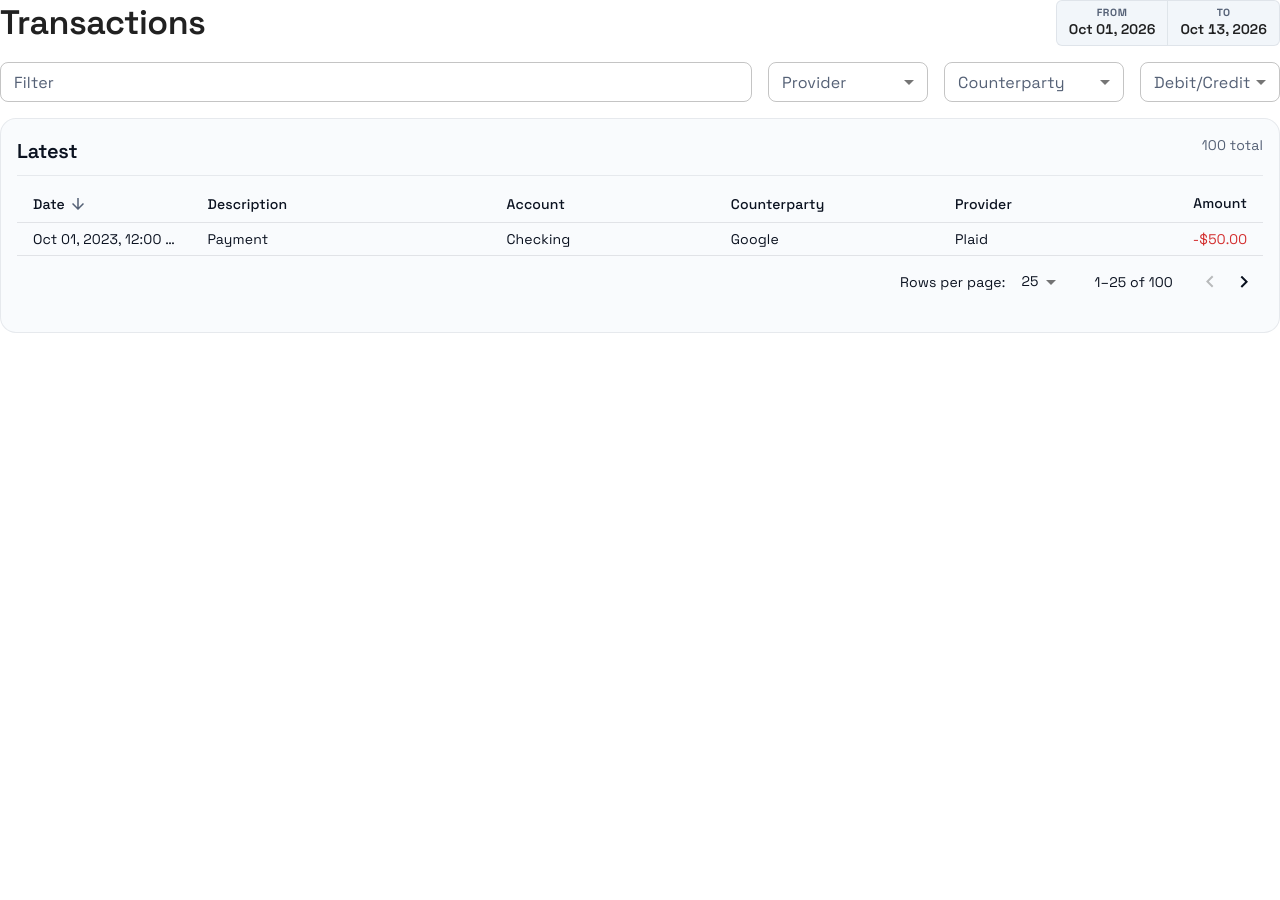
Transactions › renders table and handles search and pagination
Expected: the text "Payment" is shown, [191,222,490,255]
Expected: the text "Google" is shown, [715,222,939,255]
Type "Starbucks" into the field with placeholder "Search merchant or payee…".
click(376, 82); type("Starbucks")  # box [0,62,752,102]
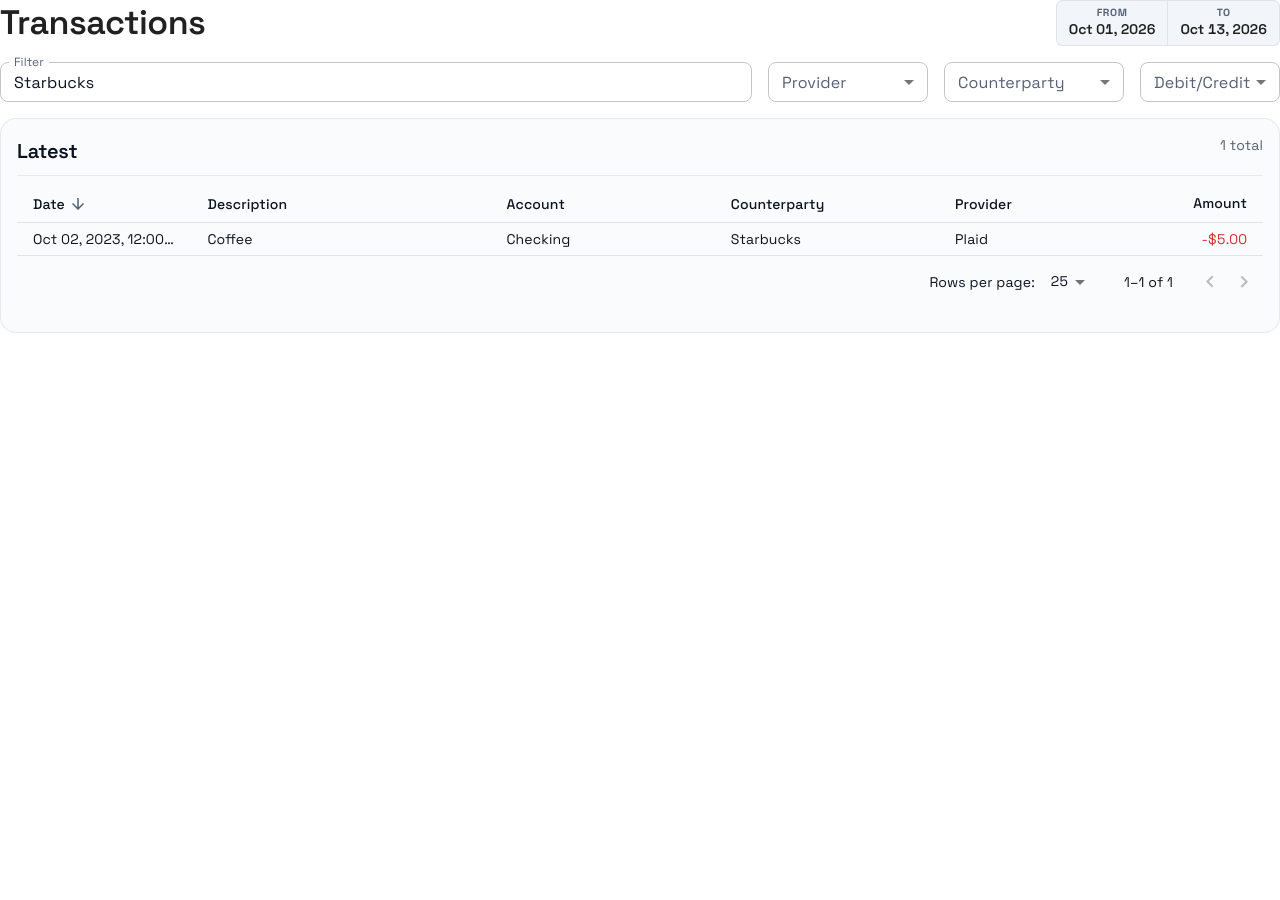
Expected: the text "Coffee" is shown
Click the text "Coffee".
click(341, 239)  # box [191,222,490,255]
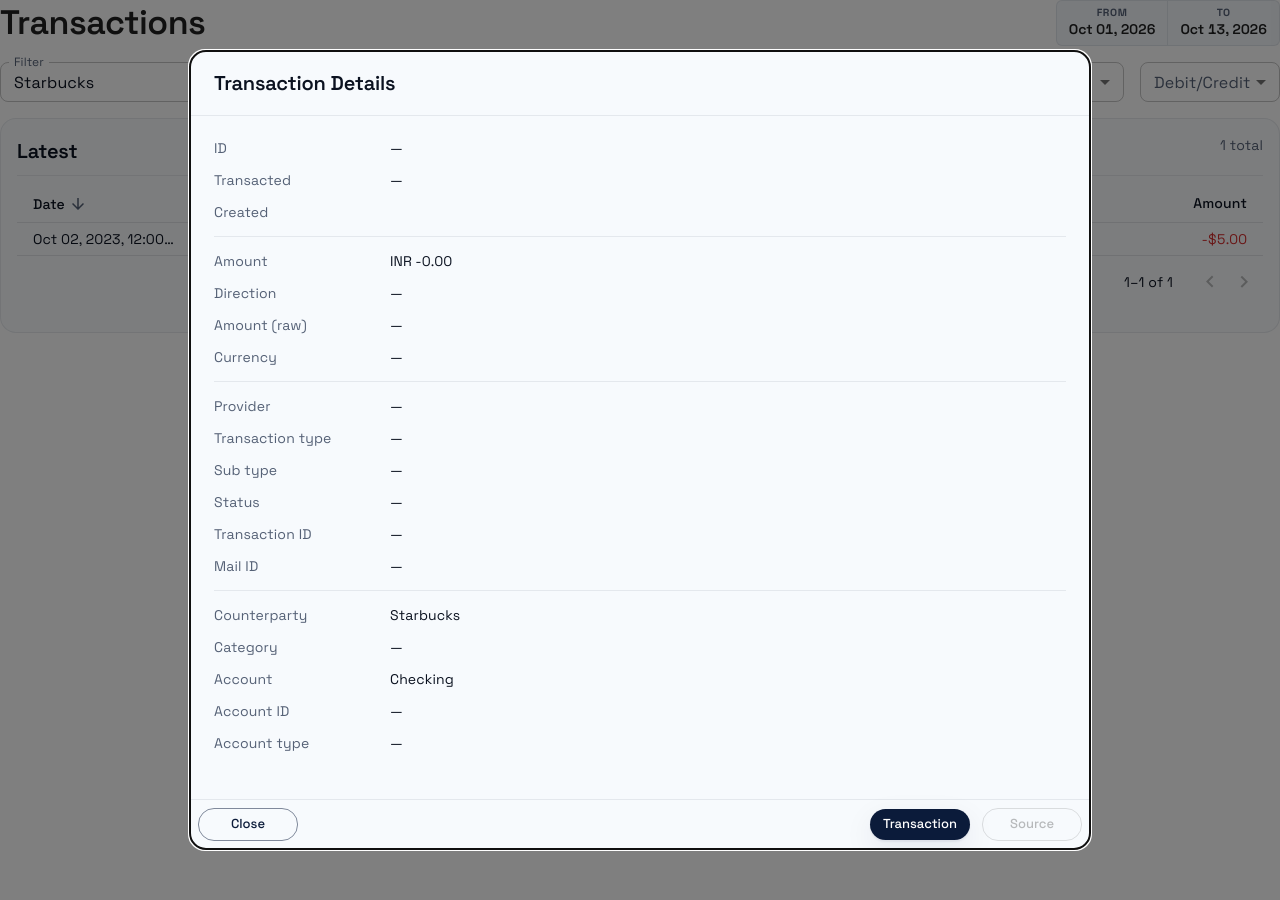
Expected: the dialog is shown
Expected: the text "Starbucks" is shown, [390,605,460,625]
Click the button "Close".
click(248, 825)  # box [198,808,298,841]
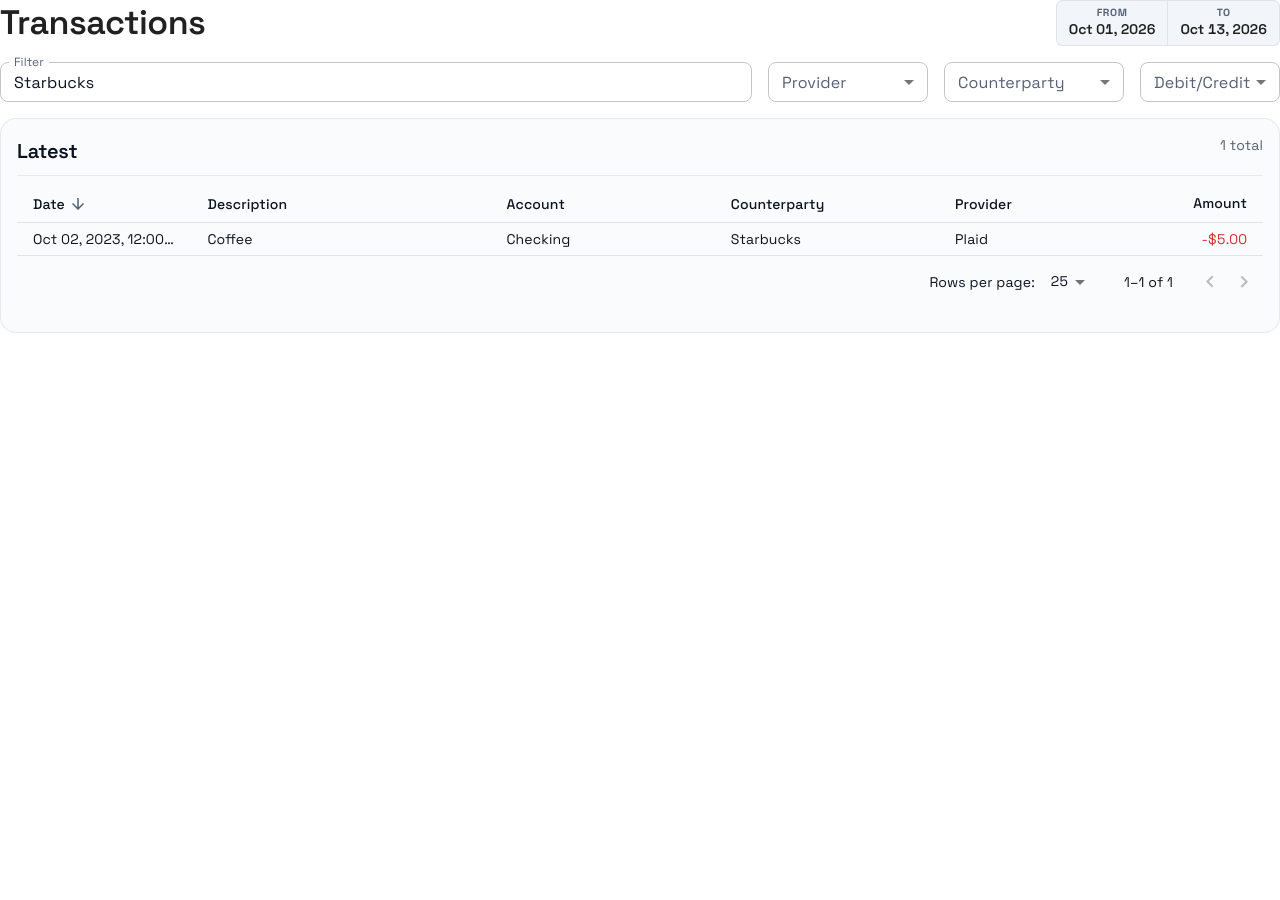
Expected: the dialog is gone
